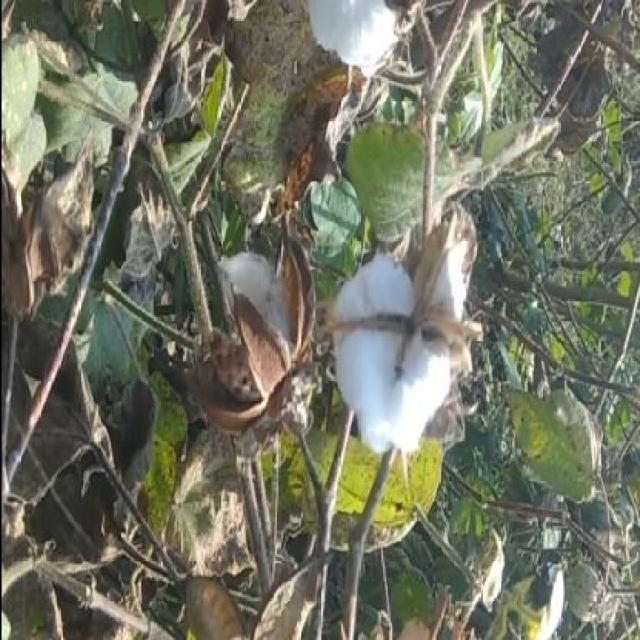cotton_ready: (306, 192, 492, 466)
